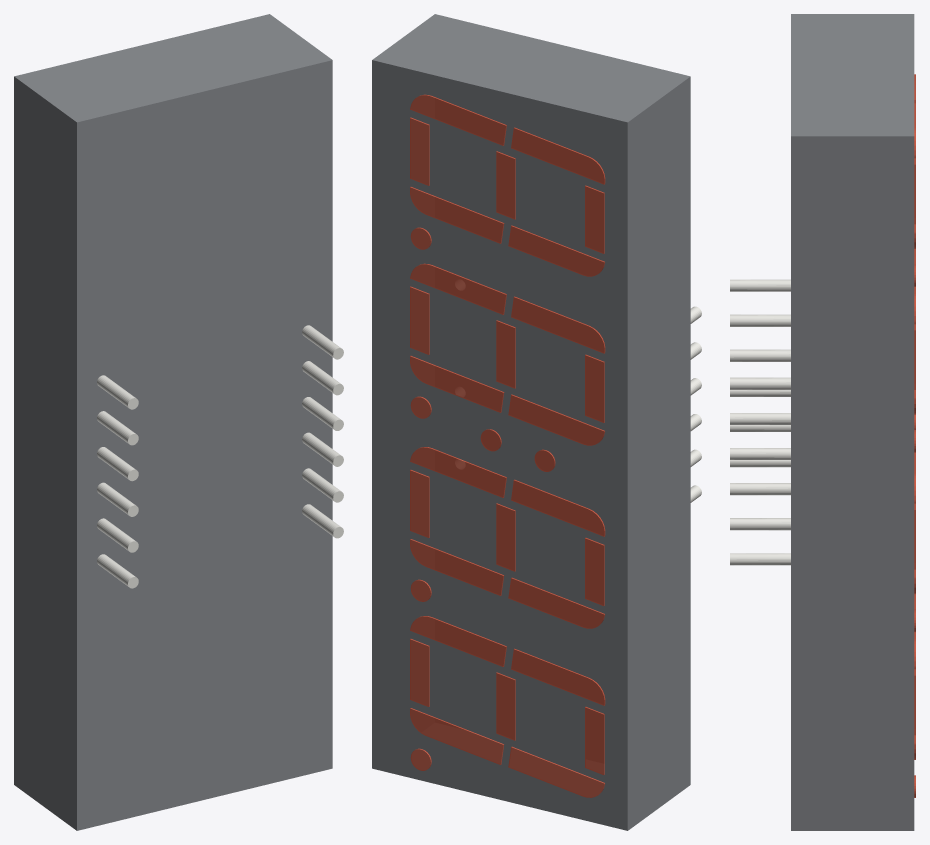
The model's file is CA56-12SURKWA.glb.
3 views of the same model, side by side, from view 1: azimuth 30°, elevation 25°; view 2: azimuth 150°, elevation 25°; view 3: azimuth 270°, elevation 25° (orthographic).
Visible parts, largest first — view 1: Shape_IndexedFaceSet.002, Shape_IndexedFaceSet.025, Shape_IndexedFaceSet.023, Shape_IndexedFaceSet.008, Shape_IndexedFaceSet.010; view 2: Shape_IndexedFaceSet.037, Shape_IndexedFaceSet.025, Shape_IndexedFaceSet.023, Shape_IndexedFaceSet.008, Shape_IndexedFaceSet.010, Shape_IndexedFaceSet.213, Shape_IndexedFaceSet.216, Shape_IndexedFaceSet.207, Shape_IndexedFaceSet.185, Shape_IndexedFaceSet.196, Shape_IndexedFaceSet.197, Shape_IndexedFaceSet.201 (+21 smaller); view 3: Shape_IndexedFaceSet.022, Shape_IndexedFaceSet.004, Shape_IndexedFaceSet.023, Shape_IndexedFaceSet.010, Shape_IndexedFaceSet.011, Shape_IndexedFaceSet.013, Shape_IndexedFaceSet.014, Shape_IndexedFaceSet.016, Shape_IndexedFaceSet.018, Shape_IndexedFaceSet.019, Shape_IndexedFaceSet.021, Shape_IndexedFaceSet.012 (+4 smaller).
Boxes of the visible parts, x1,y1,x2,y2 form: Shape_IndexedFaceSet.002: (77,64,332,826); Shape_IndexedFaceSet.025: (14,76,76,830); Shape_IndexedFaceSet.023: (14,14,331,122); Shape_IndexedFaceSet.008: (61,142,76,810); Shape_IndexedFaceSet.010: (88,55,315,118); Shape_IndexedFaceSet.037: (372,60,627,830); Shape_IndexedFaceSet.025: (627,77,690,830); Shape_IndexedFaceSet.023: (372,14,690,122); Shape_IndexedFaceSet.008: (675,96,690,765); Shape_IndexedFaceSet.010: (446,18,673,80); Shape_IndexedFaceSet.213: (511,297,604,353); Shape_IndexedFaceSet.216: (511,128,604,184); Shape_IndexedFaceSet.207: (410,264,505,314); Shape_IndexedFaceSet.185: (511,480,604,536); Shape_IndexedFaceSet.196: (508,578,604,628); Shape_IndexedFaceSet.197: (511,649,604,705); Shape_IndexedFaceSet.201: (508,747,604,797); Shape_IndexedFaceSet.022: (791,136,914,830); Shape_IndexedFaceSet.004: (791,156,821,811); Shape_IndexedFaceSet.023: (791,14,914,136); Shape_IndexedFaceSet.010: (791,21,821,128); Shape_IndexedFaceSet.011: (730,518,790,530); Shape_IndexedFaceSet.013: (730,483,790,495); Shape_IndexedFaceSet.014: (730,349,790,361); Shape_IndexedFaceSet.016: (730,314,790,326); Shape_IndexedFaceSet.018: (730,279,790,291); Shape_IndexedFaceSet.019: (730,377,790,389); Shape_IndexedFaceSet.021: (730,553,790,565); Shape_IndexedFaceSet.012: (730,448,790,459).
Size of the model in its own units: 7.48 by 19.8 by 4.8.
